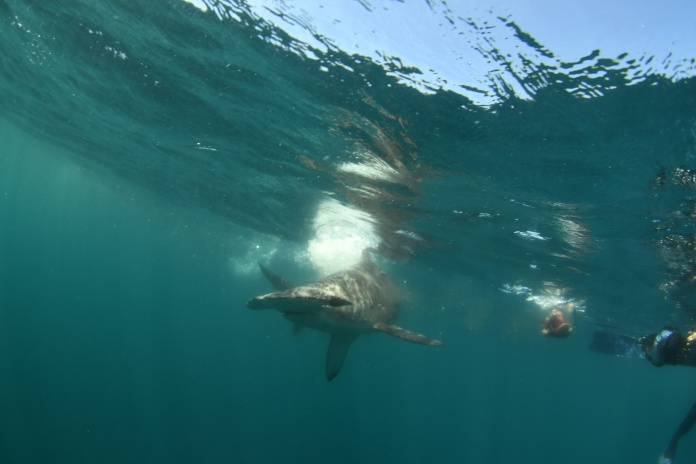Hammer: (221, 236, 480, 403)
